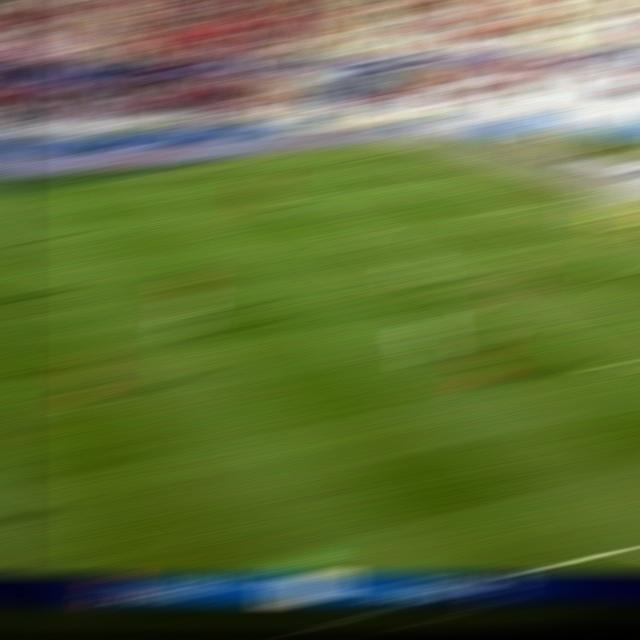bigarea_bottom_inner: (589, 353, 630, 374)
bigarea_top_inner: (273, 192, 309, 205)
bigarea_top_outter: (449, 172, 486, 181)
bottom_arc_area_intersection: (446, 281, 485, 295)
corner: (373, 146, 411, 154)
smallarea_top_inner: (467, 206, 503, 216)
smallarea_top_outter: (525, 196, 563, 208)
top_arc_area_intersection: (340, 227, 376, 239)
